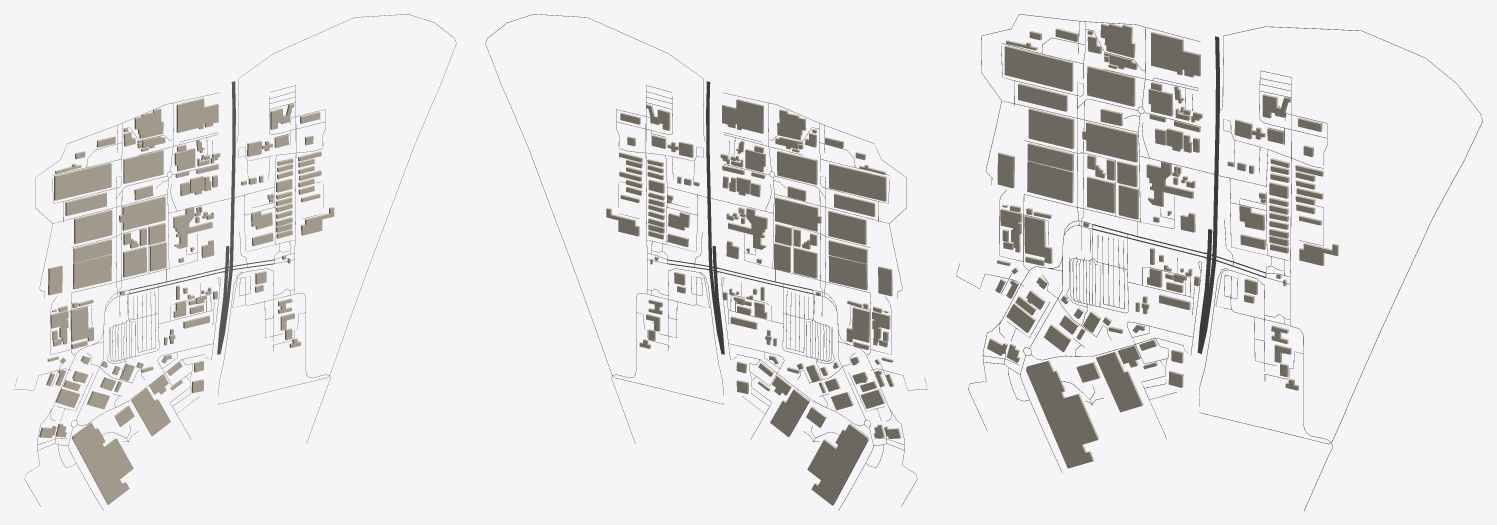
The model's file is historic-palestine-07_26_3490_3200.glb.
3 views of the same model, side by side, from view 1: azimuth 30°, elevation 25°; view 2: azimuth 150°, elevation 25°; view 3: azimuth 330°, elevation 25° (orthographic). The views are drawn at different scales.
Parts seen in each view (by area): view 1: Building_, Building_.104, Building_.114, Building_.093, Building_.097, Building_.095, Building_.105, Building_.006, Road .087, Road 40, Building_.136, Building_.078 (+4 smaller); view 2: Building_, Building_.104, Building_.093, Building_.114, Building_.097, Building_.095, Building_.105, Building_.006, Road .087, Road 40, Building_.136, Building_.078 (+4 smaller); view 3: Building_, Building_.104, Building_.093, Building_.114, Building_.097, Building_.095, Building_.105, Building_.006, Road .087, Road 40, Building_.136, Building_.078 (+8 smaller).
Part boxes in pixels (x1,y1,x2,y2): Building_: (72,422,133,504); Building_.104: (54,162,111,200); Building_.114: (176,98,218,132); Building_.093: (119,196,165,230); Building_.097: (73,254,111,289); Building_.095: (123,150,163,183); Building_.105: (74,209,112,243); Building_.006: (131,388,170,435); Road .087: (218,14,456,404); Road 40: (229,81,235,266); Building_.136: (173,207,212,248); Building_.078: (70,306,93,341); Building_: (807,423,868,505); Building_.104: (829,163,886,201); Building_.093: (775,197,821,231); Building_.114: (722,99,763,133); Building_.097: (828,255,867,290); Building_.095: (777,150,817,184); Building_.105: (828,210,866,244); Building_.006: (770,388,809,436); Road .087: (485,14,723,404); Road 40: (706,81,712,266); Building_.136: (728,208,767,249); Building_.078: (846,307,870,342); Building_: (1026,360,1099,468); Building_.104: (1004,45,1073,91); Building_.093: (1082,122,1137,162); Building_.114: (1151,32,1200,77); Building_.097: (1027,160,1073,203); Building_.095: (1087,66,1135,106); Building_.105: (1028,108,1074,148); Building_.006: (1096,351,1143,411); Road .087: (1199,26,1482,444); Road 40: (1212,36,1219,256); Building_.136: (1146,161,1193,206); Building_.078: (1024,215,1052,263).
Bounding box in the file's own units: 1556 × 1454 × 8.7.
